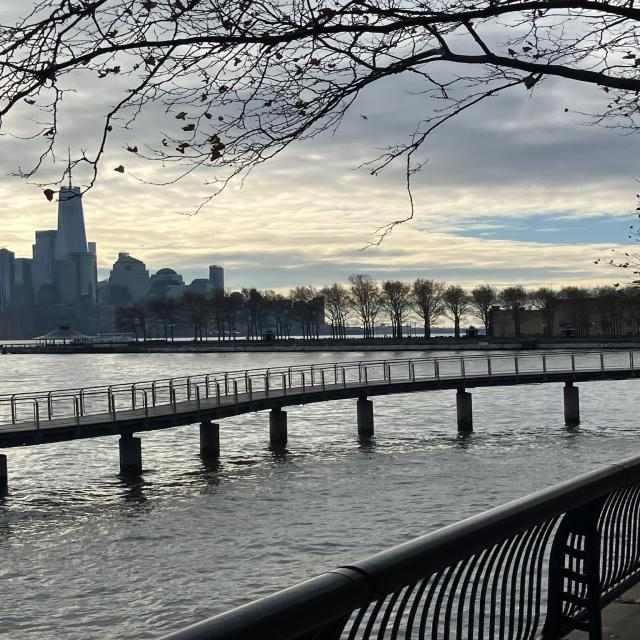WTC: (56, 156, 87, 252)
